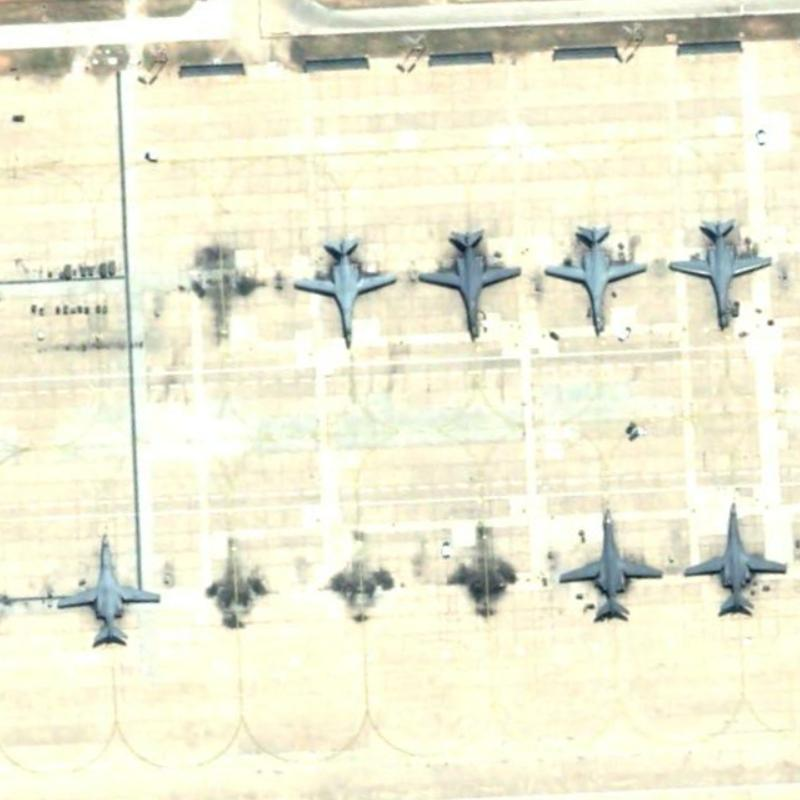A10: (661, 210, 778, 338), (413, 216, 526, 345), (52, 524, 163, 653), (285, 230, 400, 354), (678, 496, 786, 627), (537, 217, 649, 341), (557, 500, 662, 624)
